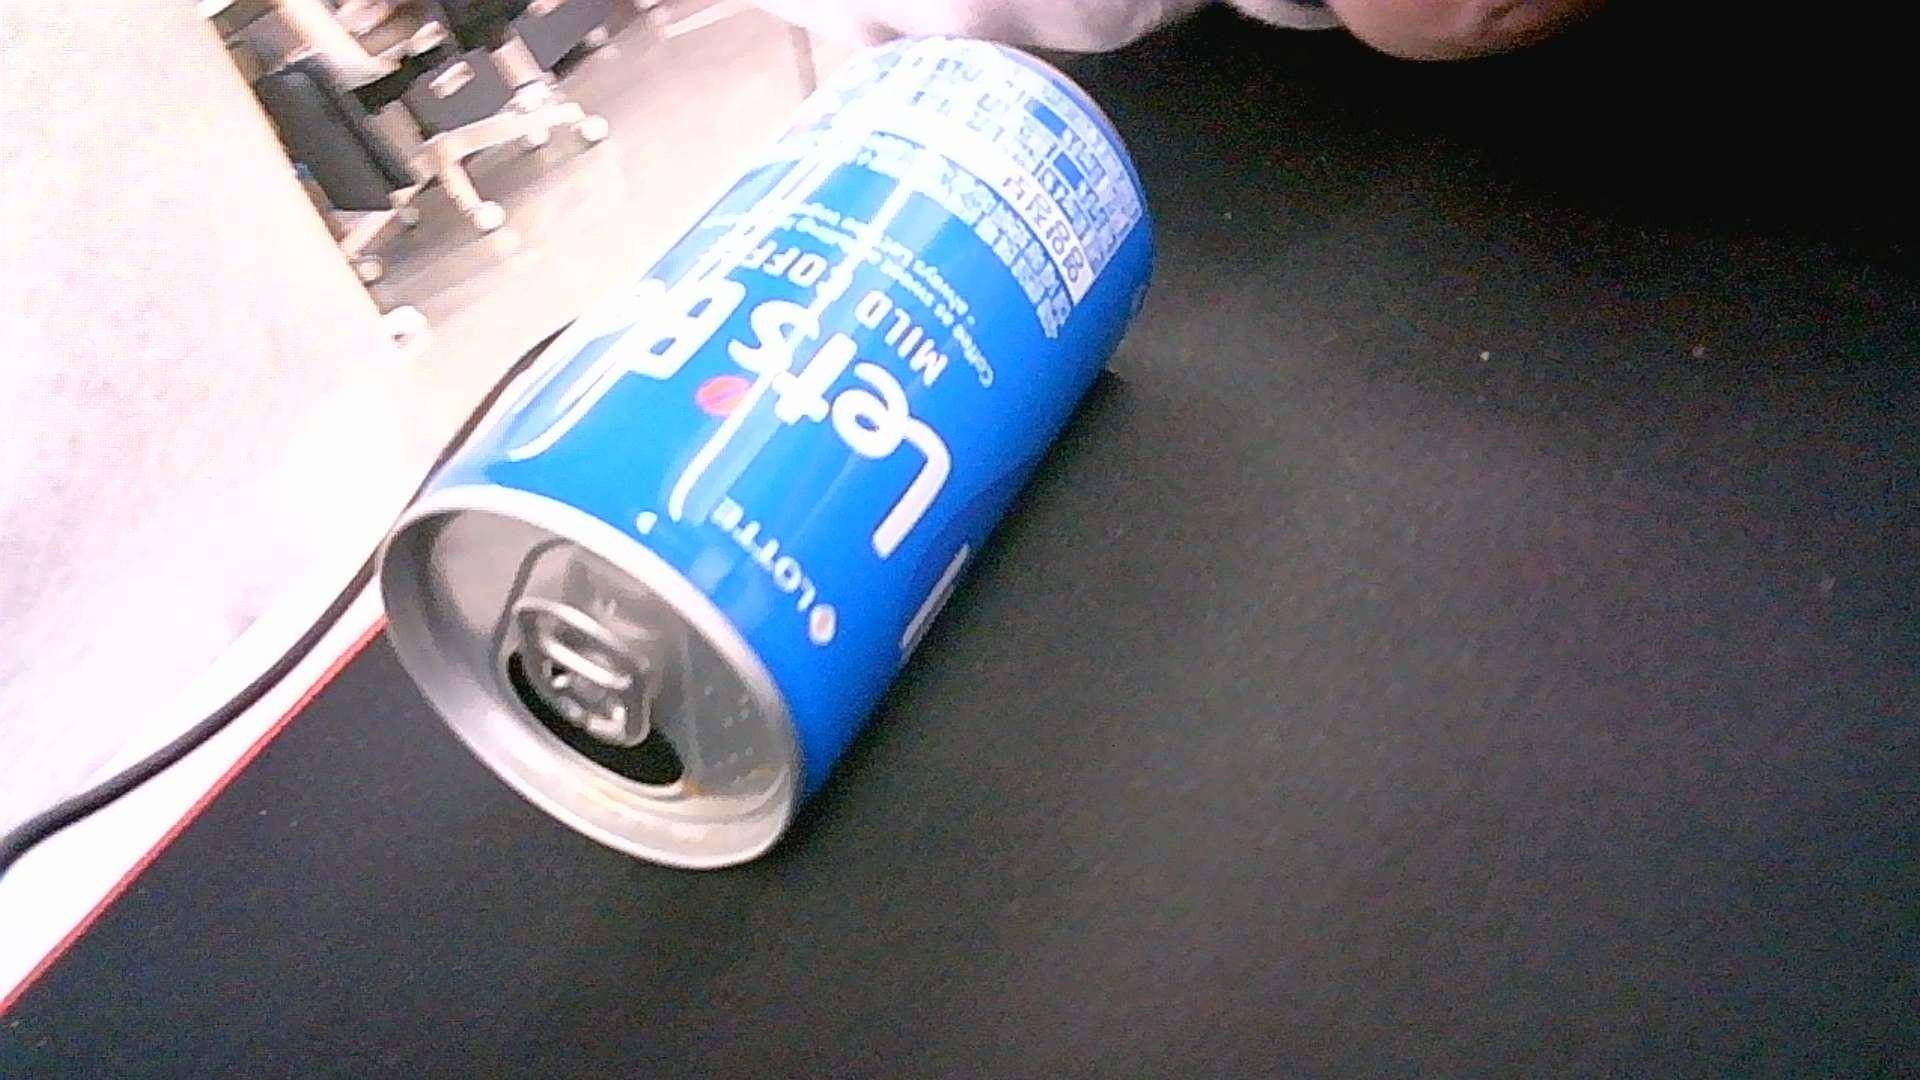letsbe: (375, 32, 1156, 872)
